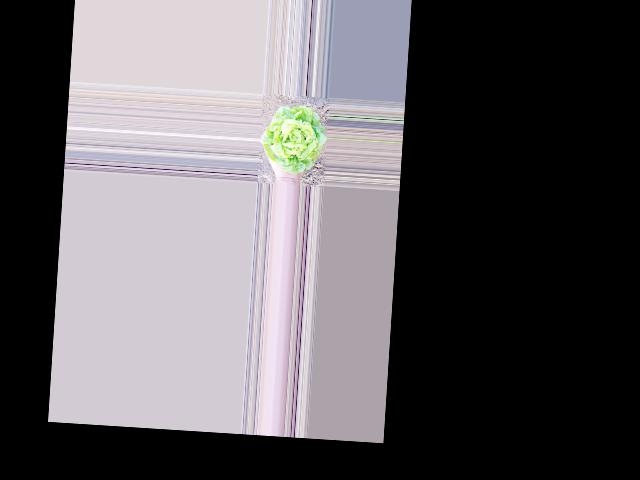lettuce: (261, 102, 326, 171)
